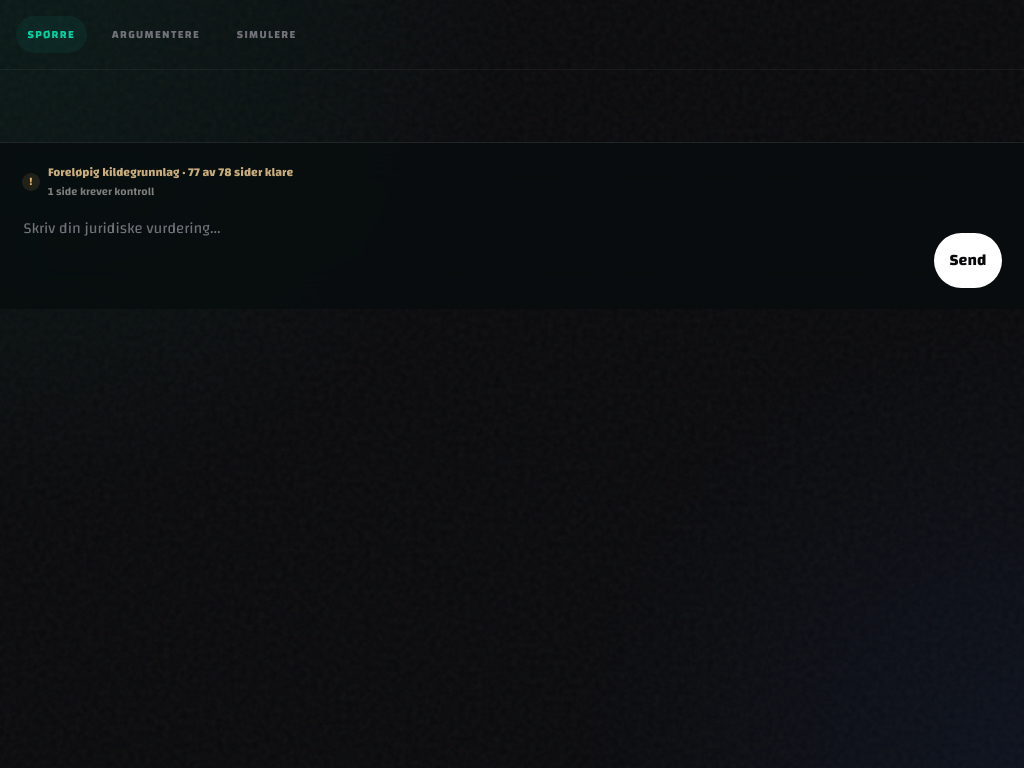
SaksromChat › does not turn partial source transport failures into NO_SOURCE_BASIS
The image size is (1024, 768).
Type "Hva står i rettsboken?" into the text box named "Saksrom melding" at (470, 251), box x1=22 y1=215 x2=918 y2=288
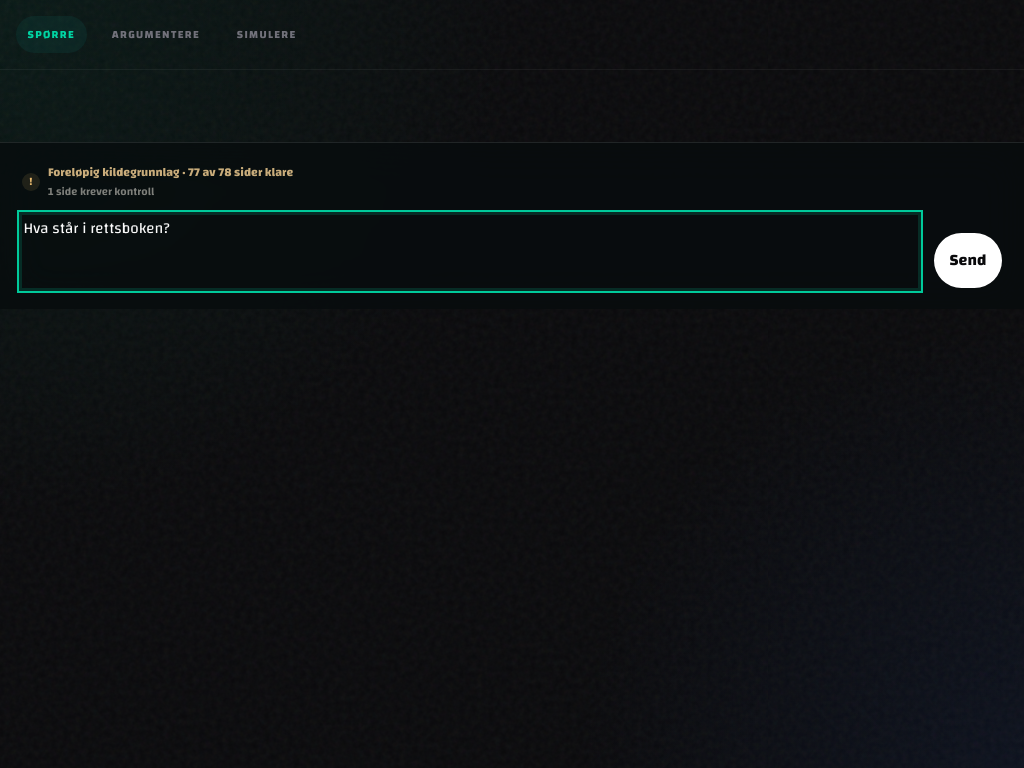
Click the button "Send" at (968, 260), box x1=934 y1=233 x2=1002 y2=288
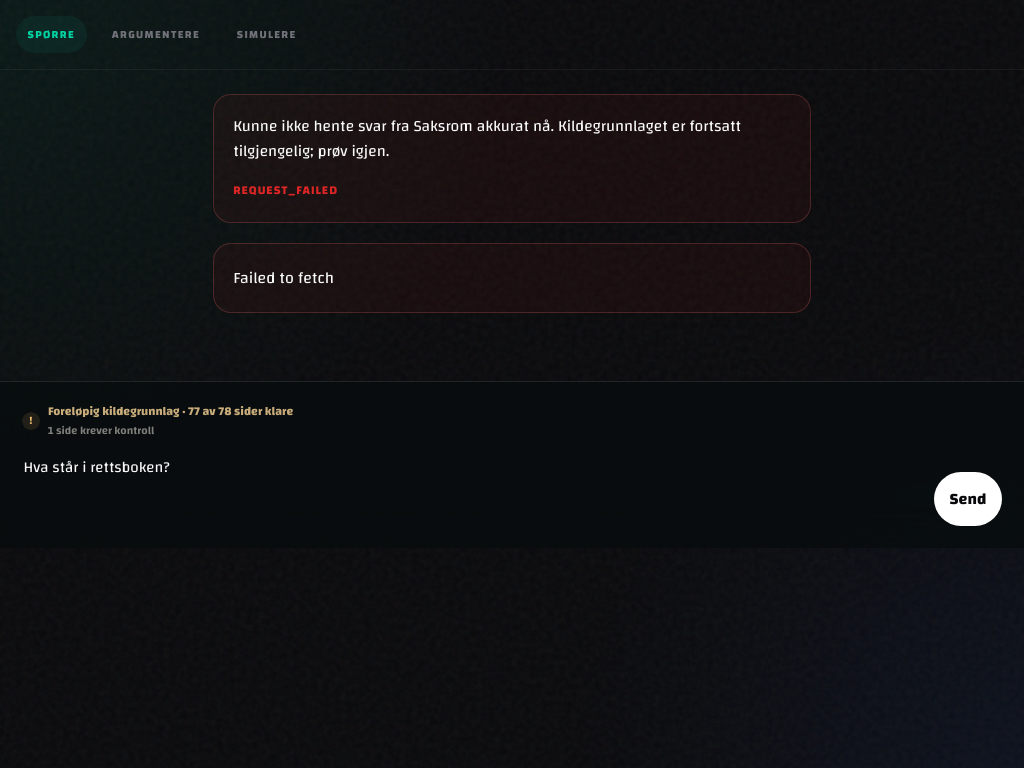
Now the text "Kunne ikke hente svar fra Saksrom" is shown, box x1=233 y1=112 x2=741 y2=166
Now the message "Failed to fetch" is shown, box x1=213 y1=243 x2=811 y2=313
